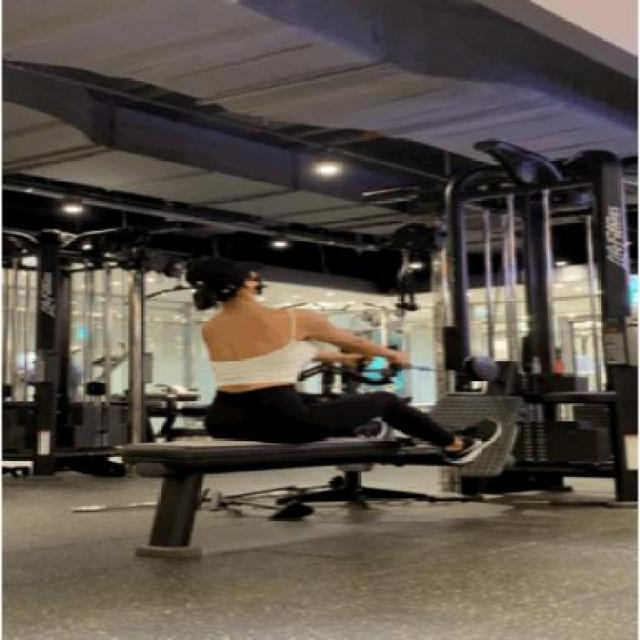Seated Cable Rows: (104, 146, 640, 640)
